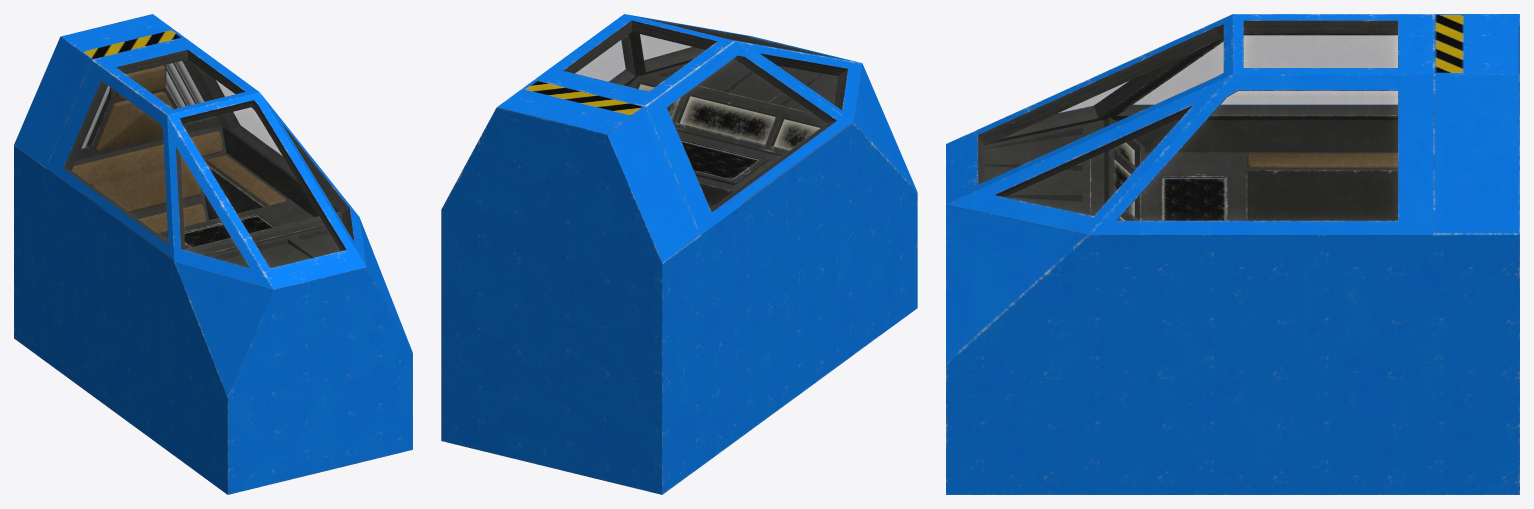
File: cockpit.glb
3 views of the same model, side by side, from view 1: azimuth 30°, elevation 25°; view 2: azimuth 150°, elevation 25°; view 3: azimuth 270°, elevation 25° (orthographic). The views are drawn at different scales.
Visible parts, largest first — view 1: Body_Steel - Satin_0, CanopyGlass_Glass (Clear)_0, ArmRestL_Plastic (Tan)_0, LowerPipe_Chrome_0, Body_Emmissive Blue_0; view 2: Body_Steel - Satin_0, CanopyGlass_Glass (Clear)_0, Body_Emmissive Blue_0; view 3: Body_Steel - Satin_0, CanopyGlass_Glass (Clear)_0, Body_Emmissive Blue_0, ArmRestL_Plastic (Tan)_0.
Part boxes in pixels (x1,y1,x2,y2): Body_Steel - Satin_0: (14,14,412,494); CanopyGlass_Glass (Clear)_0: (68,55,348,267); ArmRestL_Plastic (Tan)_0: (72,65,285,232); LowerPipe_Chrome_0: (81,61,209,148); Body_Emmissive Blue_0: (184,215,273,247); Body_Steel - Satin_0: (441,14,917,494); CanopyGlass_Glass (Clear)_0: (570,26,842,209); Body_Emmissive Blue_0: (639,84,820,179); Body_Steel - Satin_0: (946,14,1519,494); CanopyGlass_Glass (Clear)_0: (981,27,1397,219); Body_Emmissive Blue_0: (1114,142,1225,220); ArmRestL_Plastic (Tan)_0: (1247,153,1397,167).
Bounding box in the file's own units: 1 × 1.5 × 2.
5 materials, 4 textured.
